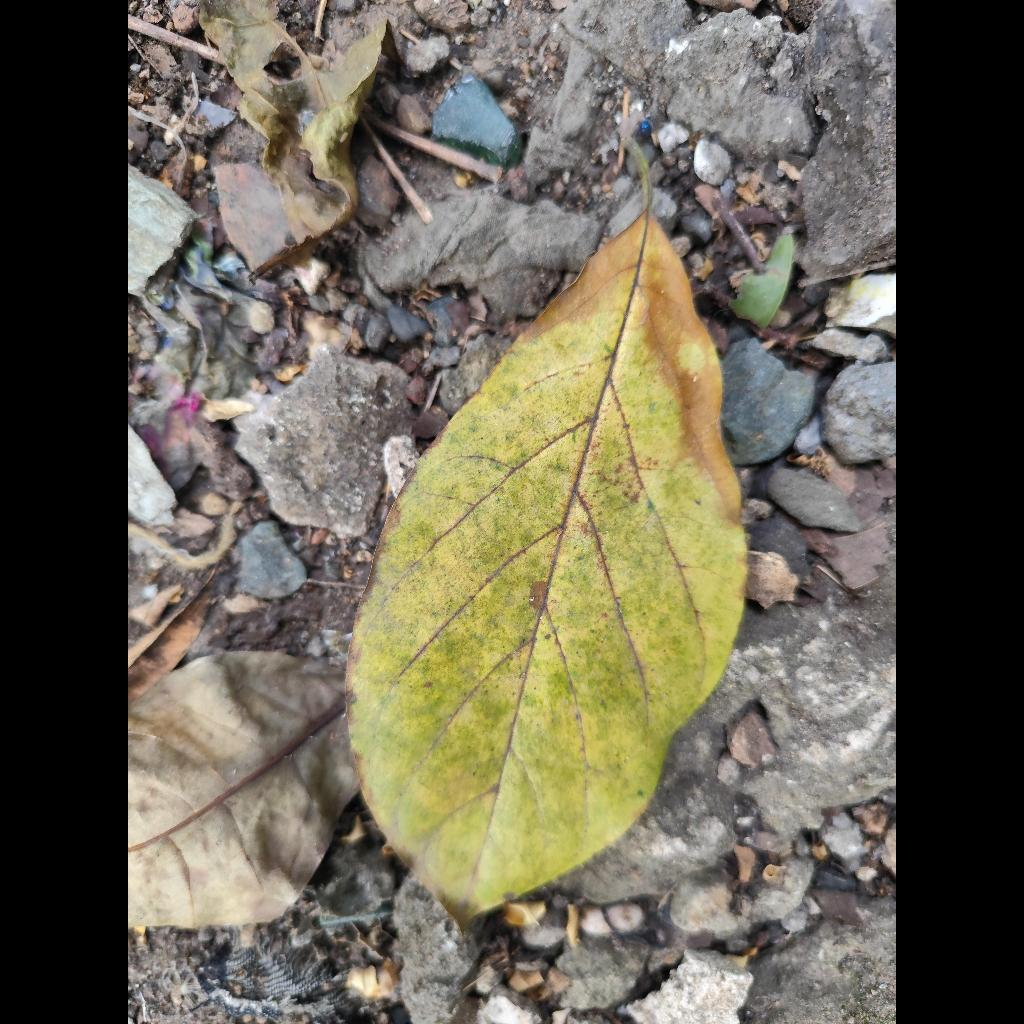deficiencia_nutricional: (347, 212, 745, 921)
